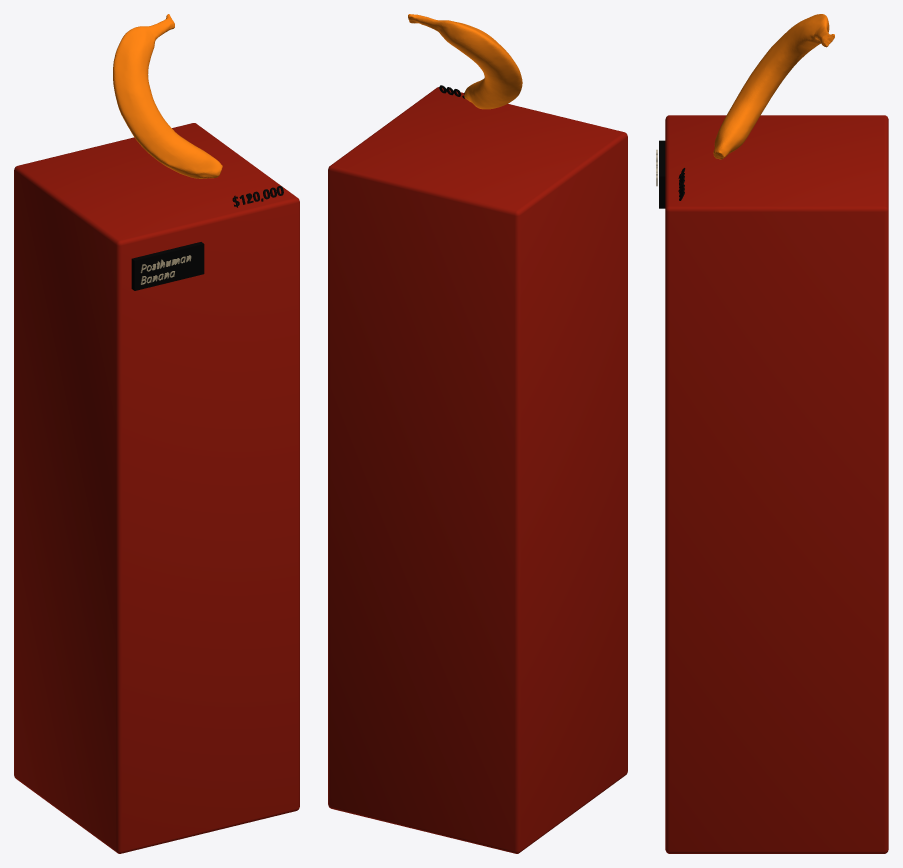
File: Art1.fbx
3 views of the same model, side by side, from view 1: azimuth 30°, elevation 25°; view 2: azimuth 150°, elevation 25°; view 3: azimuth 270°, elevation 25° (orthographic). The views are drawn at different scales.
Parts seen in each view (by area): view 1: Plinth1, banana, banana_name; view 2: Plinth1, banana; view 3: Plinth1, banana, banana_name.
Part boxes in pixels (x1=…): Plinth1: x1=14, y1=123, x2=299, y2=853; banana: x1=113, y1=14, x2=222, y2=178; banana_name: x1=131, y1=242, x2=204, y2=290; Plinth1: x1=328, y1=87, x2=627, y2=853; banana: x1=408, y1=14, x2=522, y2=109; Plinth1: x1=665, y1=115, x2=888, y2=853; banana: x1=713, y1=14, x2=834, y2=159; banana_name: x1=659, y1=140, x2=665, y2=208.
Size of the model in its own units: 25 by 98.1 by 26.01.
5 materials, 1 textured.
